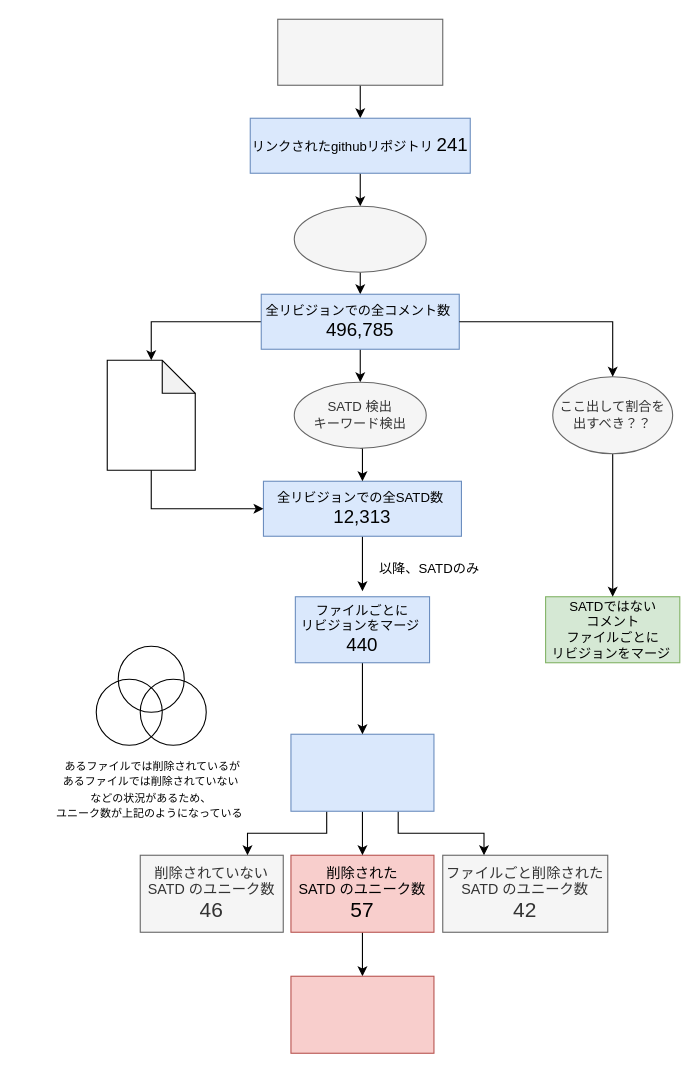
Image size: 699x1073. Some labels were removed from this diagram. The centre of each missing label's shape, as x and y in pixels:
Dockerhub 人気イメージ 250: the point at 360,51
ここでSATDの割合: the point at 150,414
対象 全リビジョン Dockerfile: the point at 359,238
検出された SATD のユニーク数 125: the point at 362,772
解決された SATD のユニーク数 48: the point at 362,1014
